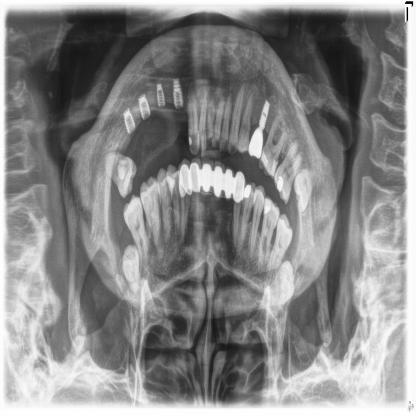Bicon: (256, 93, 273, 135), (124, 109, 135, 137), (140, 94, 150, 124), (172, 80, 182, 108), (156, 86, 165, 108)
